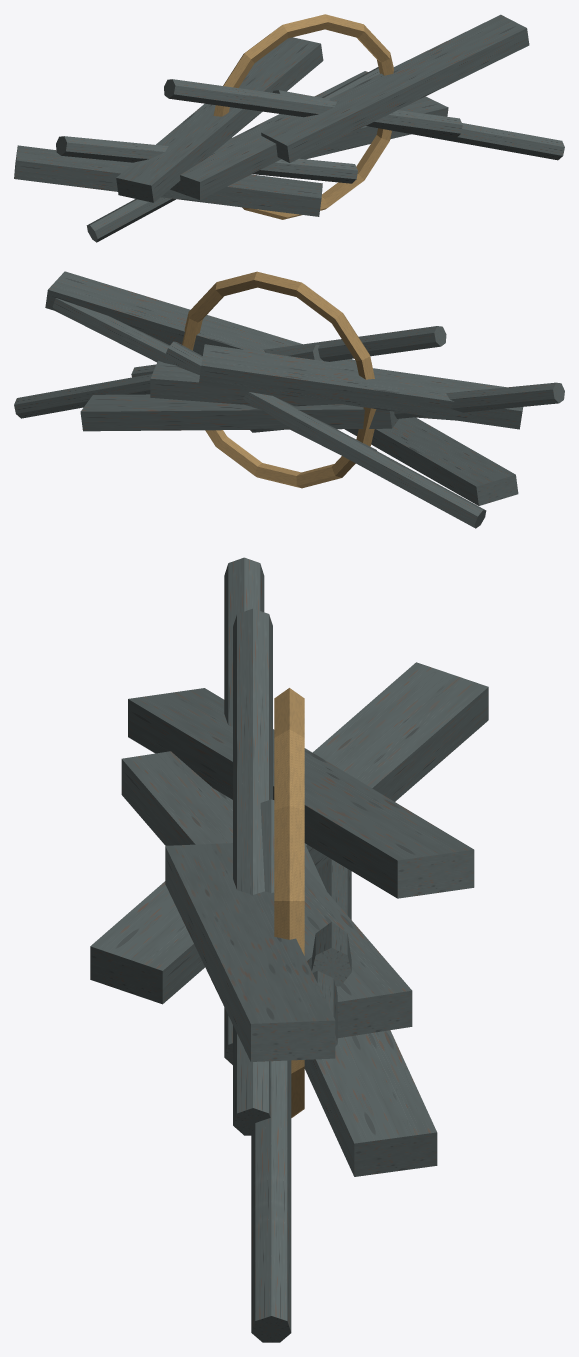
The model's file is pr-012_scrap_metal_bundle__medium.obj.
The picture shows the model from 3 angles, top to bottom: view 1: azimuth 30°, elevation 25°; view 2: azimuth 150°, elevation 25°; view 3: azimuth 270°, elevation 25°; orthographic projection. The views are drawn at different scales.
Parts seen in each view (by area): view 1: pr-012_scrap_metal_bundle__medium; view 2: pr-012_scrap_metal_bundle__medium; view 3: pr-012_scrap_metal_bundle__medium.
Part boxes in pixels (x1=…): pr-012_scrap_metal_bundle__medium: x1=14, y1=14, x2=564, y2=242; pr-012_scrap_metal_bundle__medium: x1=14, y1=271, x2=564, y2=528; pr-012_scrap_metal_bundle__medium: x1=90, y1=557, x2=488, y2=1342.
Size of the model in its own units: 1.04 by 0.3803 by 0.3498.
2 materials, 2 textured.
